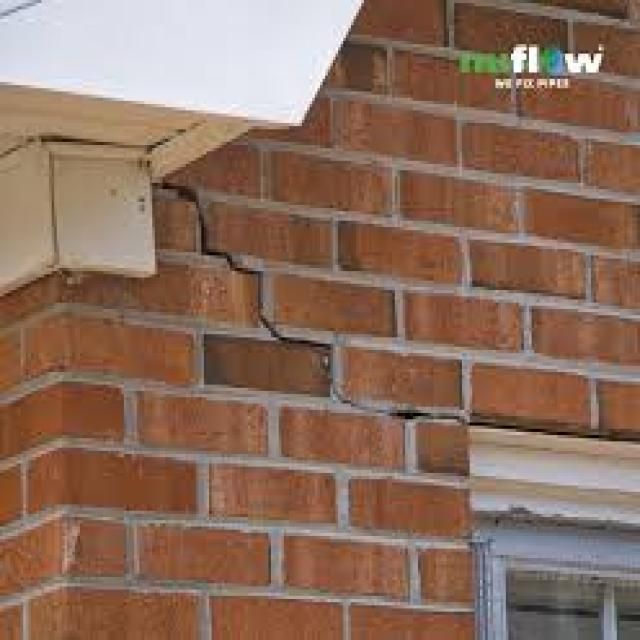Crack: (150, 176, 459, 420)
